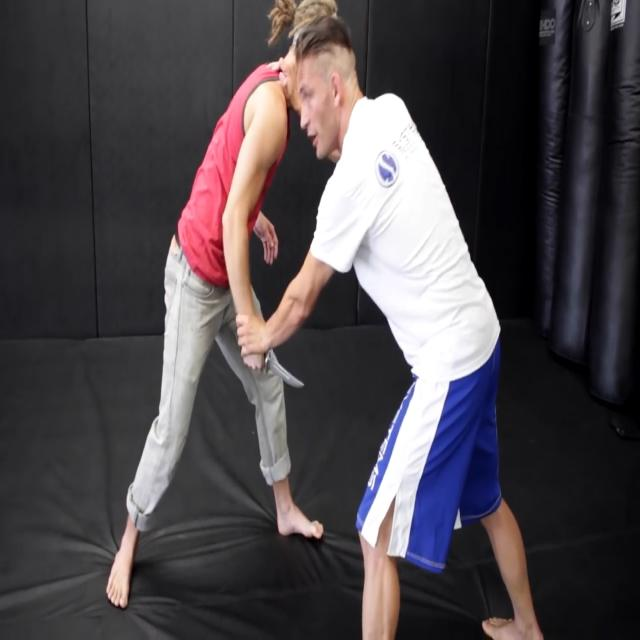knife: (265, 341, 307, 403)
